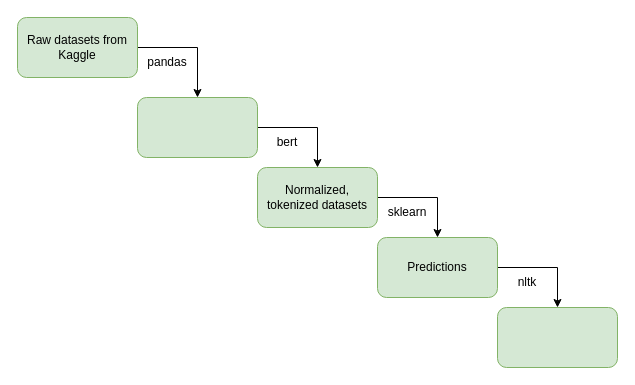
Some shapes in this 635 by 385 pixel diagram are drawn without their labels. The centre of each missing label's shape, as x and y in pixels:
"analysis of language" goes at pixel 557 337.
"Clean, labelled datasets" goes at pixel 197 127.
